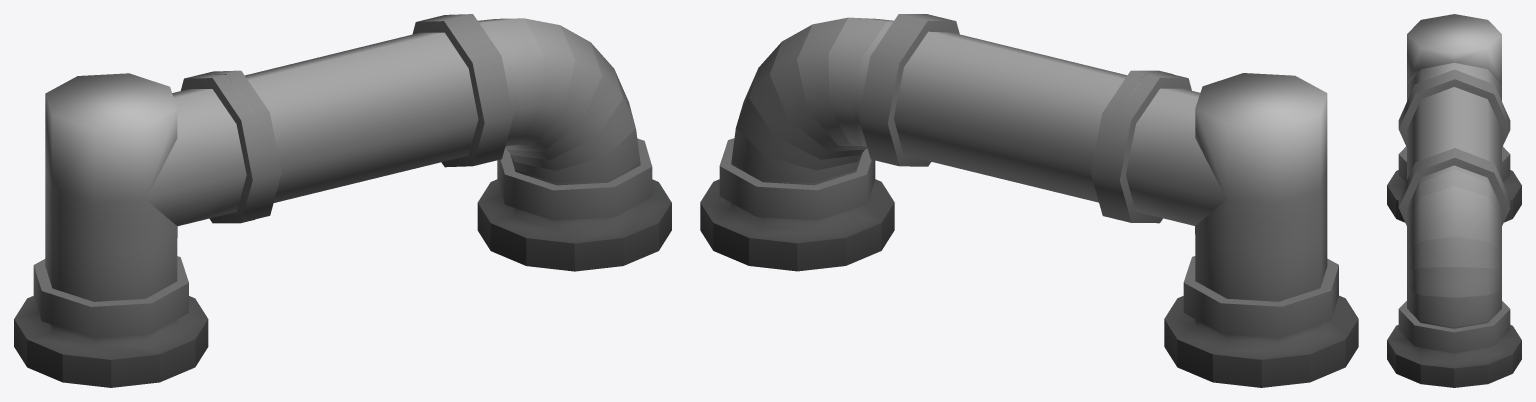
File: Pipe2.glb
3 views of the same model, side by side, from view 1: azimuth 30°, elevation 25°; view 2: azimuth 150°, elevation 25°; view 3: azimuth 270°, elevation 25° (orthographic). The views are drawn at different scales.
Parts seen in each view (by area): view 1: Pipe2; view 2: Pipe2; view 3: Pipe2.
Boxes of the visible parts, bbox=[...] form: Pipe2: bbox=[14, 14, 671, 387]; Pipe2: bbox=[700, 14, 1358, 387]; Pipe2: bbox=[1387, 14, 1521, 387].
Size of the model in its own units: 1.36 by 0.5068 by 0.3627.
Materials: 1 (1 with a texture image).
